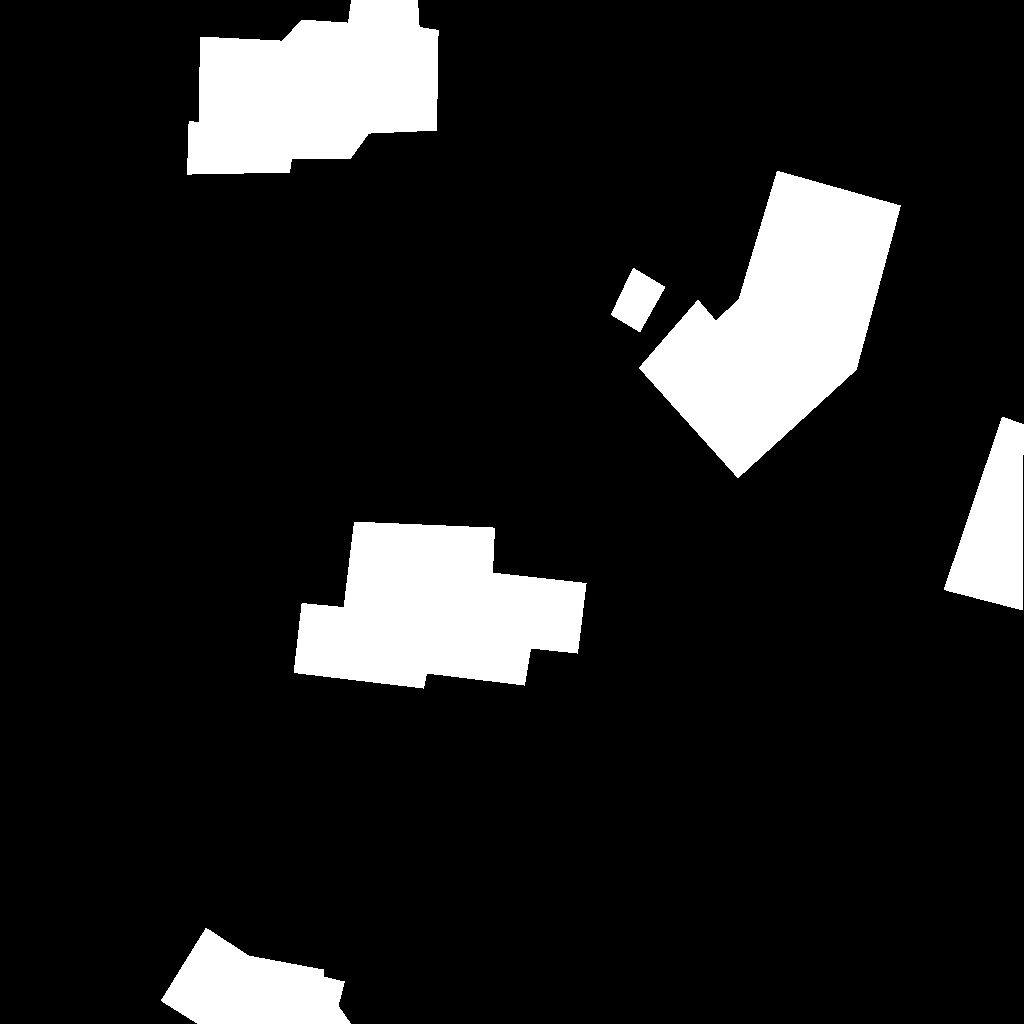building: (639, 171, 902, 479), (294, 522, 587, 689), (187, 0, 439, 175), (161, 928, 352, 1024), (944, 417, 1024, 611), (611, 268, 666, 333)
